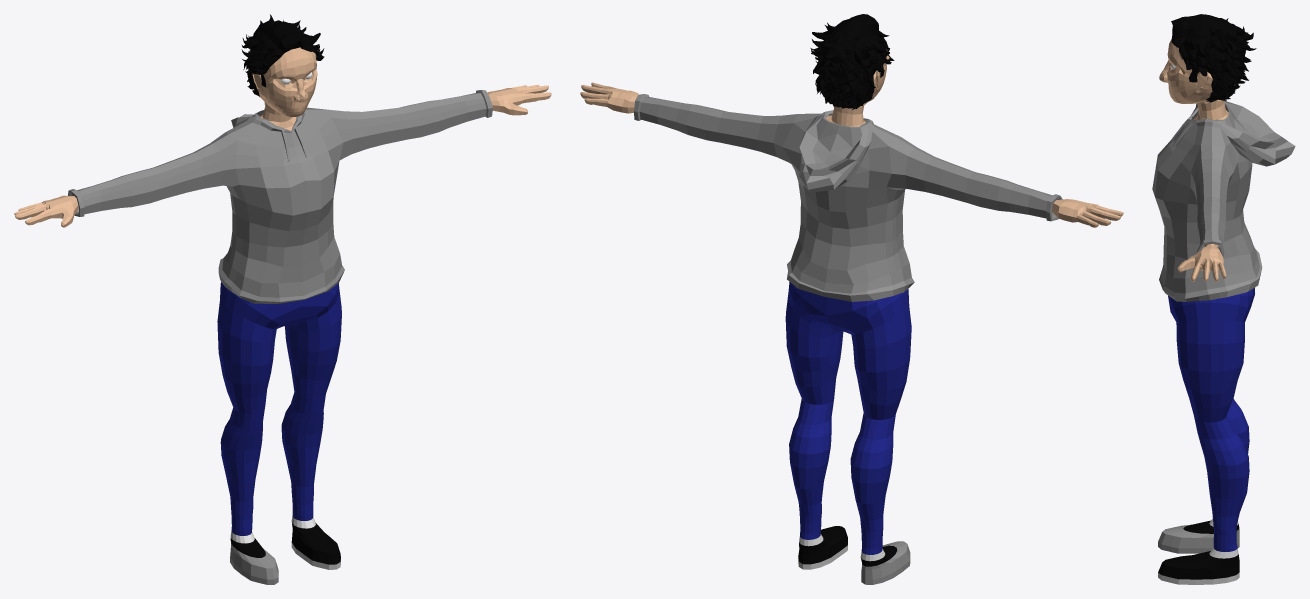
The model's file is makelanorig.fbx.
3 views of the same model, side by side, from view 1: azimuth 30°, elevation 25°; view 2: azimuth 150°, elevation 25°; view 3: azimuth 270°, elevation 25° (orthographic).
Visible parts, largest first — view 1: body, hoodie; view 2: body, hoodie; view 3: body, hoodie.
Boxes of the visible parts, x1,y1,x2,y2 form: body: [14, 14, 551, 584]; hoodie: [68, 90, 492, 303]; body: [580, 14, 1123, 584]; hoodie: [634, 94, 1062, 301]; body: [1158, 14, 1256, 584]; hoodie: [1152, 99, 1295, 301].
Bounding box in the file's own units: 423 × 408 × 96.9.
